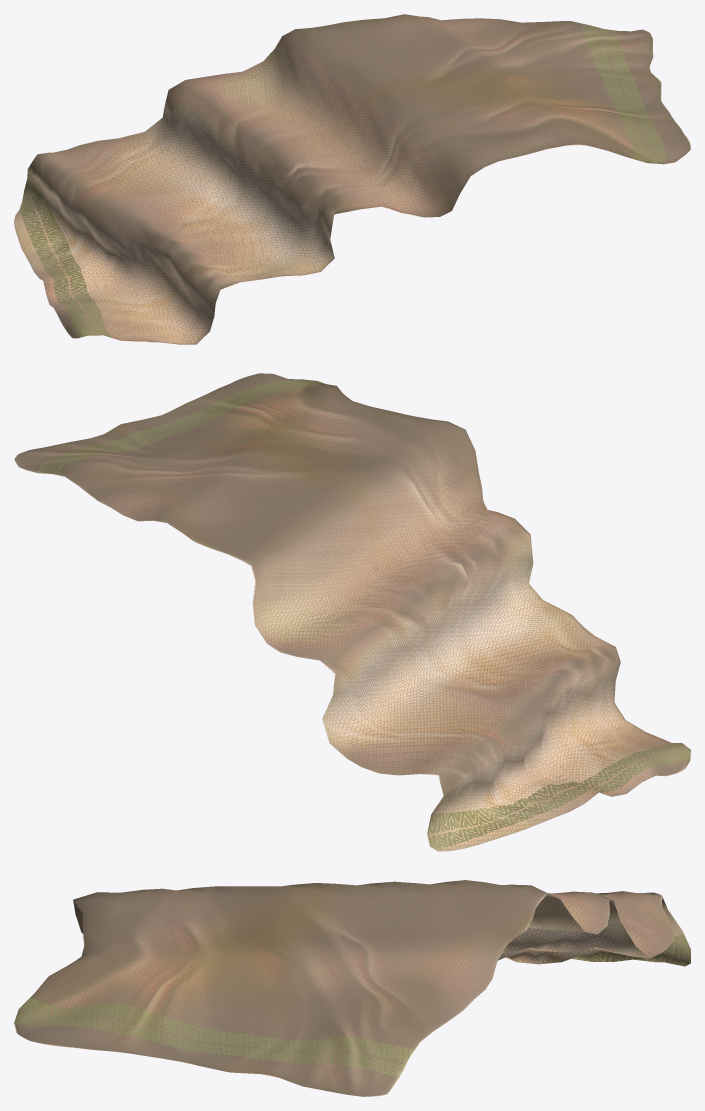
The model's file is SM_Cloth_01.fbx.
The picture shows the model from 3 angles, top to bottom: view 1: azimuth 30°, elevation 25°; view 2: azimuth 150°, elevation 25°; view 3: azimuth 270°, elevation 25°; orthographic projection. The views are drawn at different scales.
Parts seen in each view (by area): view 1: SM_Cloth_01_LOD0; view 2: SM_Cloth_01_LOD0; view 3: SM_Cloth_01_LOD0.
Boxes of the visible parts, left/top/right/bottom form: SM_Cloth_01_LOD0: left=14, top=14, right=690, bottom=344; SM_Cloth_01_LOD0: left=14, top=373, right=690, bottom=851; SM_Cloth_01_LOD0: left=14, top=880, right=690, bottom=1096.
Size of the model in its own units: 302 by 233 by 89.4.
Materials: 1 (1 with a texture image).
